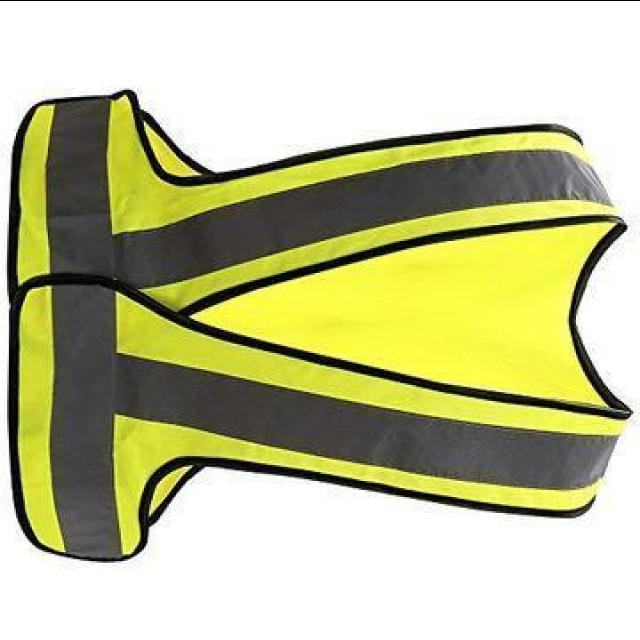jacket: (0, 63, 636, 573)
